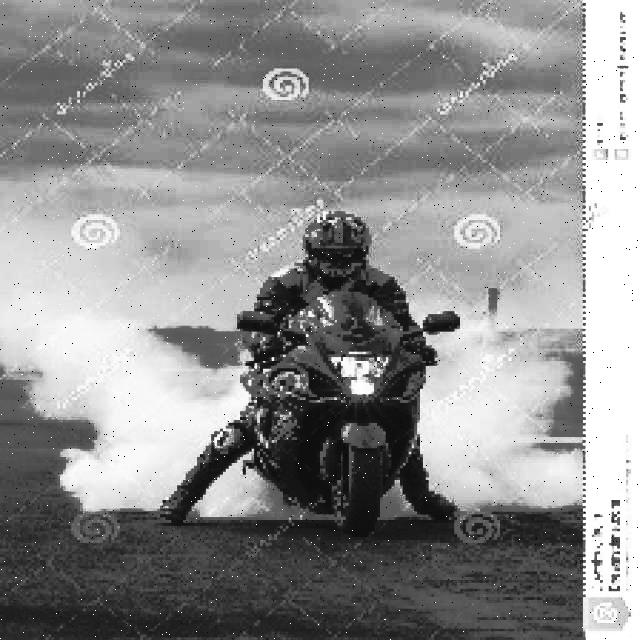Bike: (241, 303, 429, 538)
